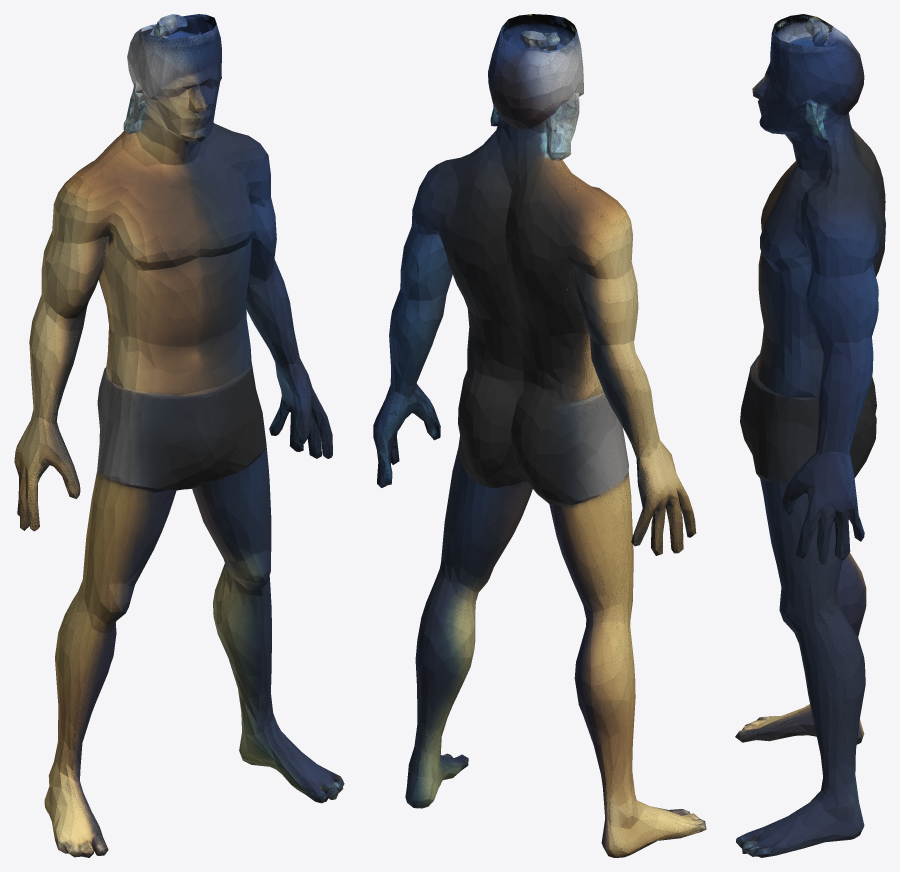
The model's file is maniqui.glb.
3 renders of one model, left to right at view 1: azimuth 30°, elevation 25°; view 2: azimuth 150°, elevation 25°; view 3: azimuth 270°, elevation 25°, orthographic. The views are drawn at different scales.
Parts seen in each view (by area): view 1: world; view 2: world; view 3: world.
Boxes of the visible parts, x1,y1,x2,y2 form: world: [14, 14, 344, 857]; world: [373, 14, 706, 857]; world: [735, 14, 885, 857].
Size of the model in its own units: 0.4044 by 1 by 0.1778.
1 material, 1 textured.
